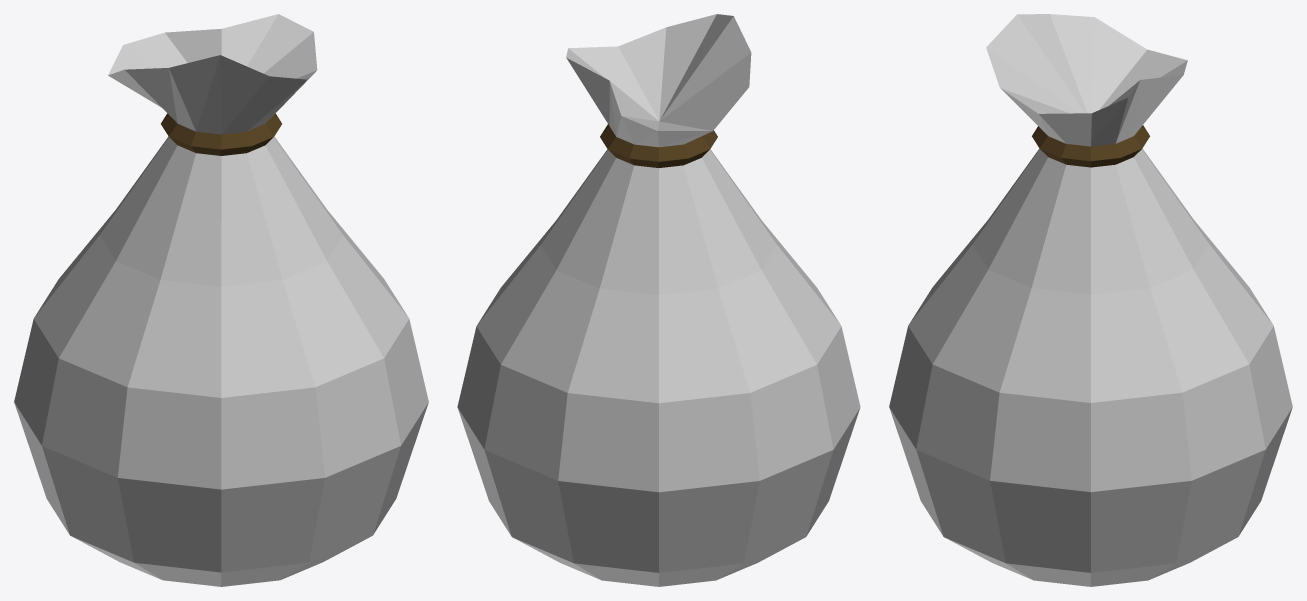
Rendered from ITMI_POCKET.OBJ.
3 renders of one model, left to right at view 1: azimuth 30°, elevation 25°; view 2: azimuth 150°, elevation 25°; view 3: azimuth 270°, elevation 25°, orthographic. The views are drawn at different scales.
Parts seen in each view (by area): view 1: ITMI_POCKET; view 2: ITMI_POCKET; view 3: ITMI_POCKET.
Boxes of the visible parts, <box> form: ITMI_POCKET: <box>14,14,428,586</box>; ITMI_POCKET: <box>457,14,860,586</box>; ITMI_POCKET: <box>889,14,1292,586</box>.
Bounding box in the file's own units: 0.2801 × 0.3871 × 0.2801.
